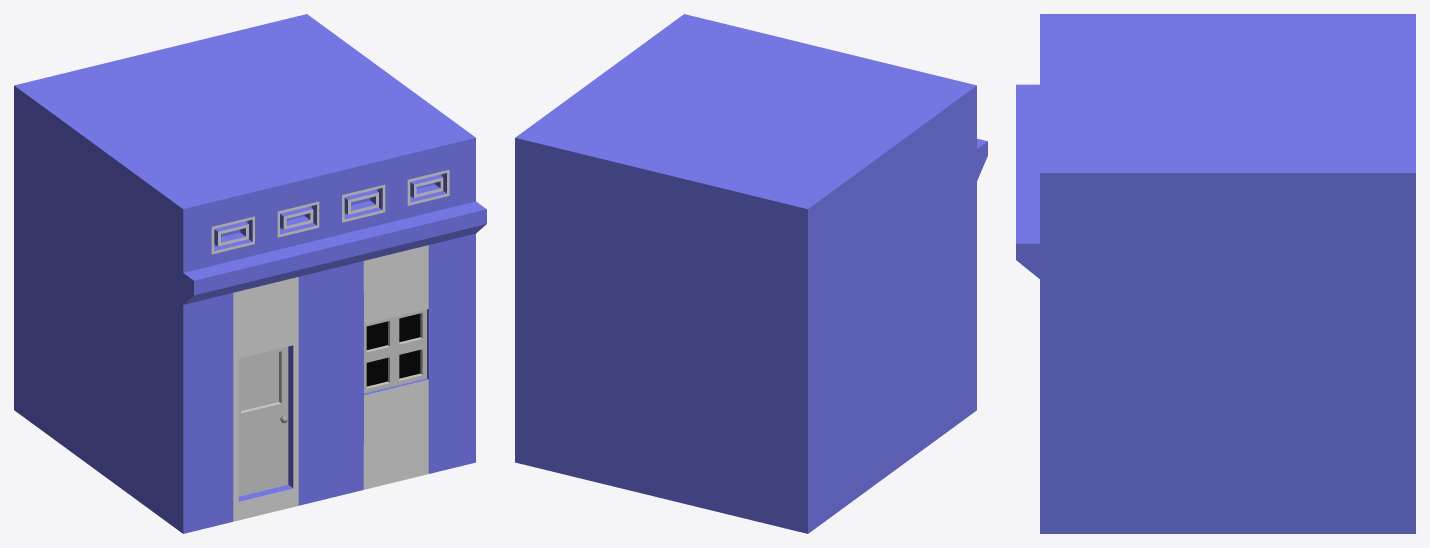
Rendered from House_Blue.fbx.
3 renders of one model, left to right at view 1: azimuth 30°, elevation 25°; view 2: azimuth 150°, elevation 25°; view 3: azimuth 270°, elevation 25°, orthographic. The views are drawn at different scales.
Parts seen in each view (by area): view 1: House.001; view 2: House.001; view 3: House.001.
Boxes of the visible parts, <box> form: House.001: <box>14,14,486,533</box>; House.001: <box>515,14,987,533</box>; House.001: <box>1016,14,1415,533</box>.
Bounding box in the file's own units: 200 × 212 × 213.
